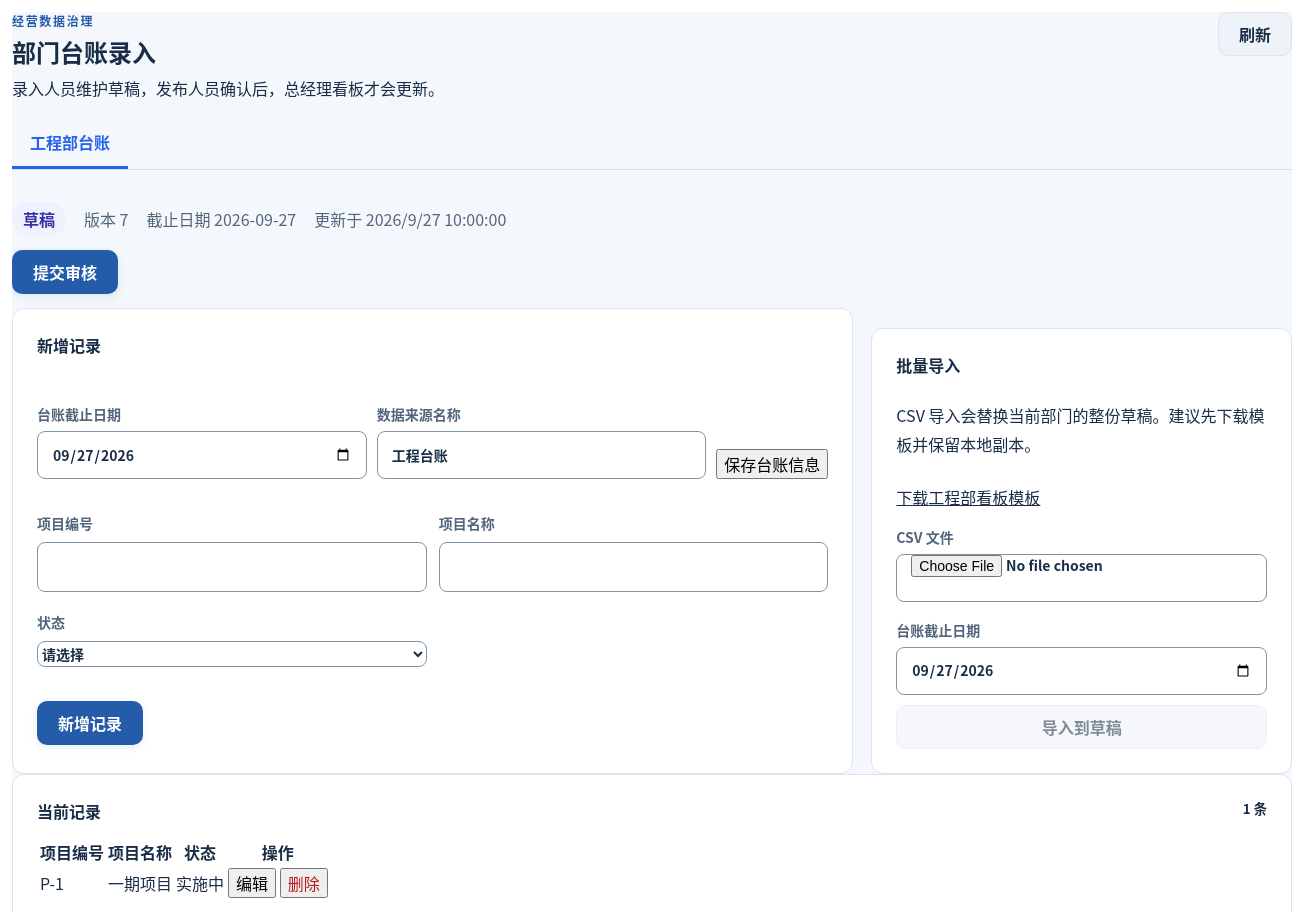
Test case: on a revision conflict reloads the latest ledger before another edit
Click the button "保存台账信息".
click(772, 464)  # box x1=716 y1=449 x2=828 y2=479
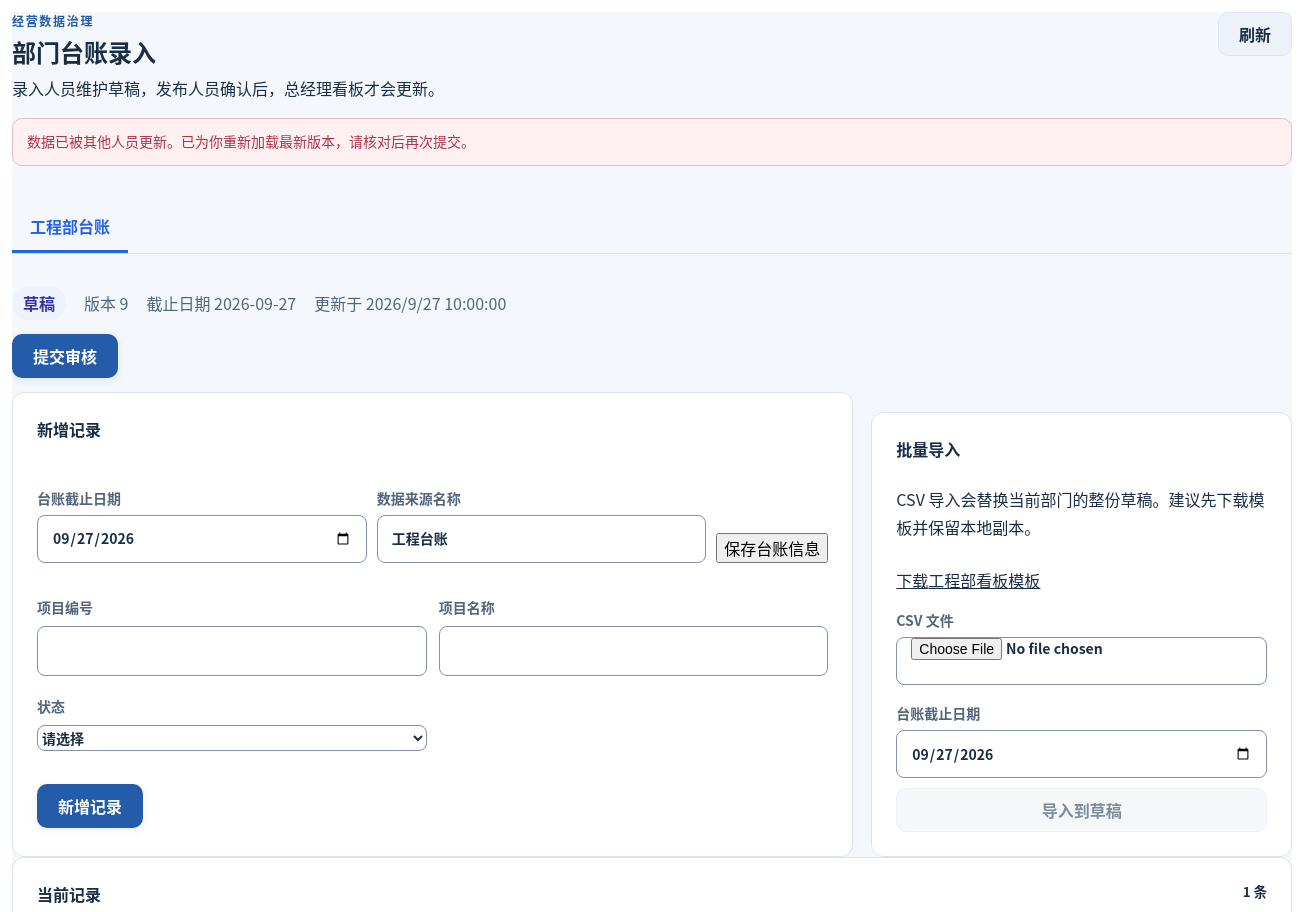
Result: the message shows "数据已被其他人员更新" at x1=27 y1=131 x2=475 y2=151
Result: the text "版本 9" is shown at x1=84 y1=291 x2=128 y2=315
